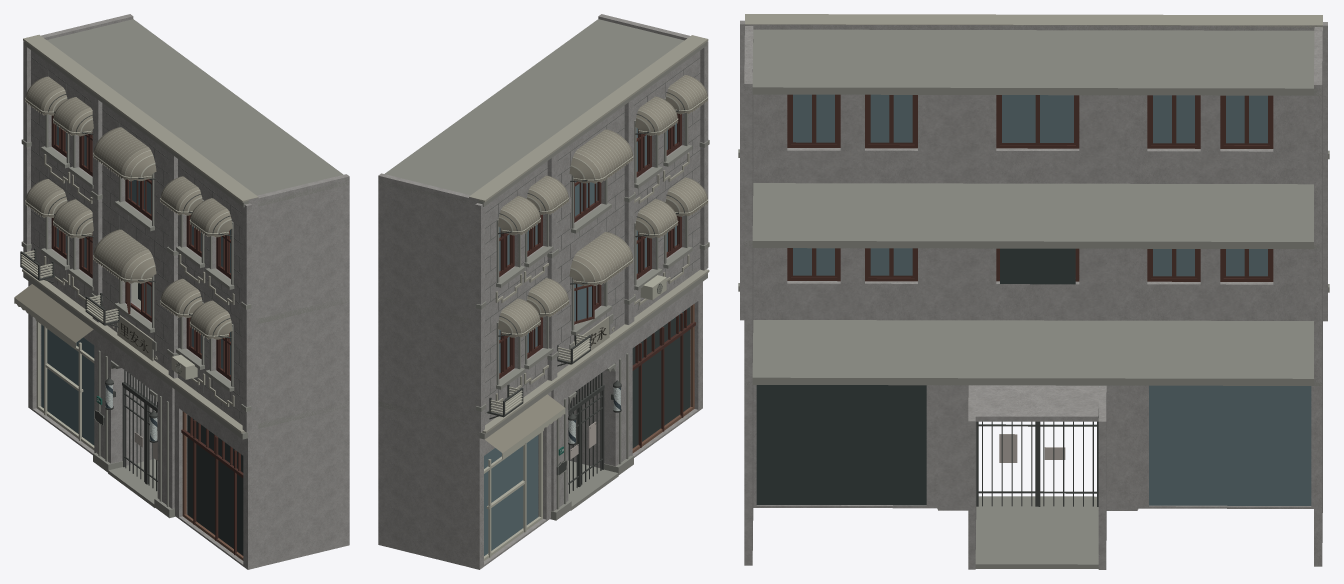
Rendered from hongkou-yonganli-duolun-174-awning-front-raw.glb.
The picture shows the model from 3 angles, left to right: view 1: azimuth 30°, elevation 25°; view 2: azimuth 150°, elevation 25°; view 3: azimuth 270°, elevation 25°; orthographic projection. The views are drawn at different scales.
Visible parts, largest first — view 1: 永安里多伦路174号题名门与双窗条篷; view 2: 永安里多伦路174号题名门与双窗条篷; view 3: 永安里多伦路174号题名门与双窗条篷.
Boxes of the visible parts, left/top/right/bottom form: 永安里多伦路174号题名门与双窗条篷: left=14, top=14, right=349, bottom=569; 永安里多伦路174号题名门与双窗条篷: left=378, top=14, right=709, bottom=569; 永安里多伦路174号题名门与双窗条篷: left=738, top=14, right=1329, bottom=569.
Bounding box in the file's own units: 4.03 × 10.92 × 12.01.
Materials: 18 (1 with a texture image).
